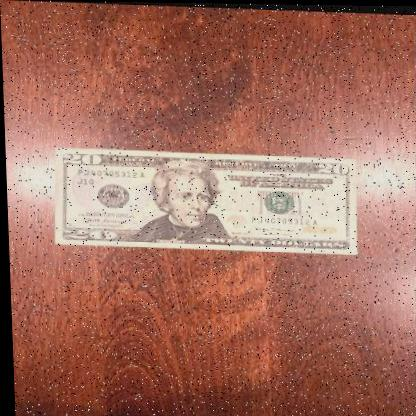twenty-front: (51, 147, 361, 253)
